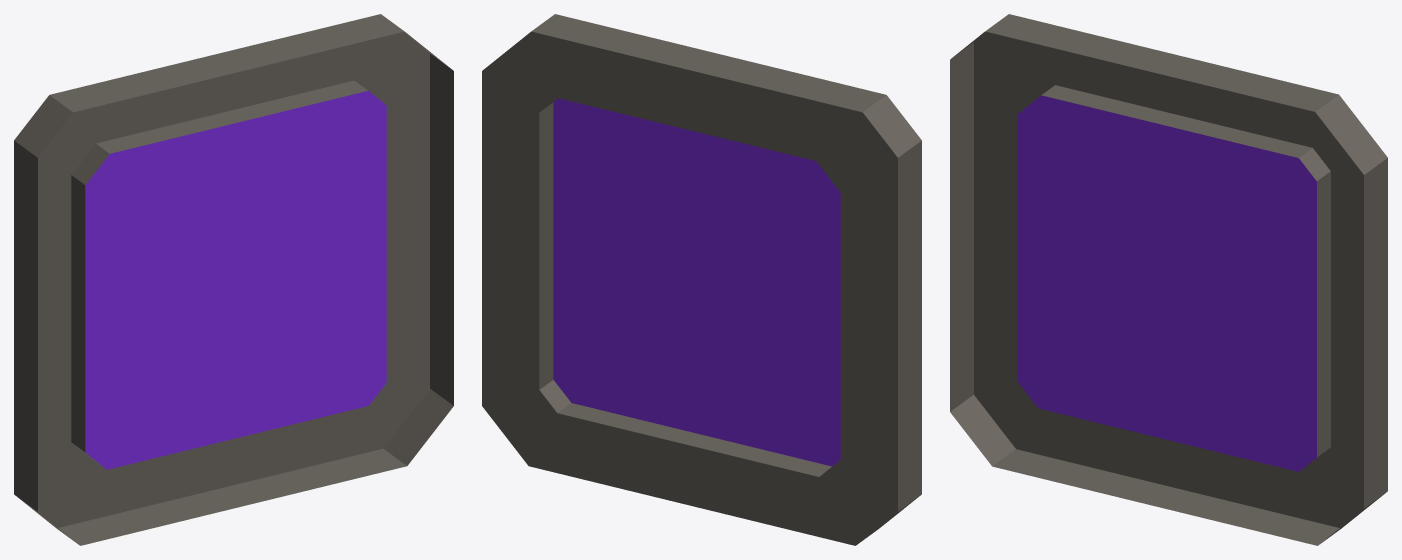
Rendered from PortalV2.glb.
The picture shows the model from 3 angles, left to right: view 1: azimuth 30°, elevation 25°; view 2: azimuth 150°, elevation 25°; view 3: azimuth 330°, elevation 25°; orthographic projection.
Parts seen in each view (by area): view 1: PortalV2; view 2: PortalV2; view 3: PortalV2.
Boxes of the visible parts, box(x1,y1,x2,y2) form: PortalV2: box(14, 14, 453, 545); PortalV2: box(482, 14, 921, 545); PortalV2: box(950, 14, 1387, 545).
Size of the model in its own units: 1.76 by 1.76 by 0.1755.
